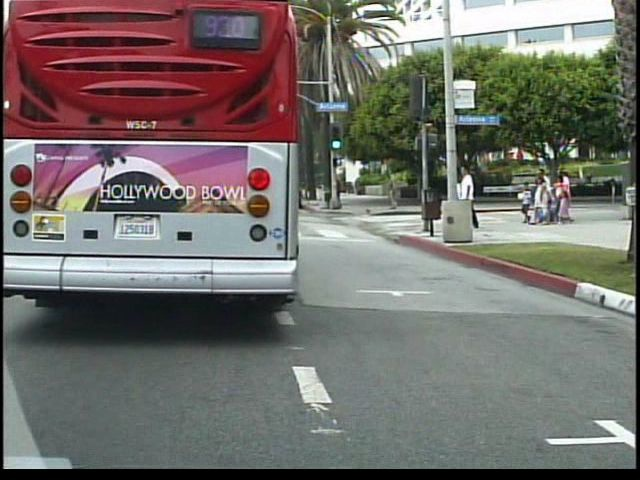person: (457, 161, 481, 231), (451, 172, 473, 228), (384, 172, 403, 213)
